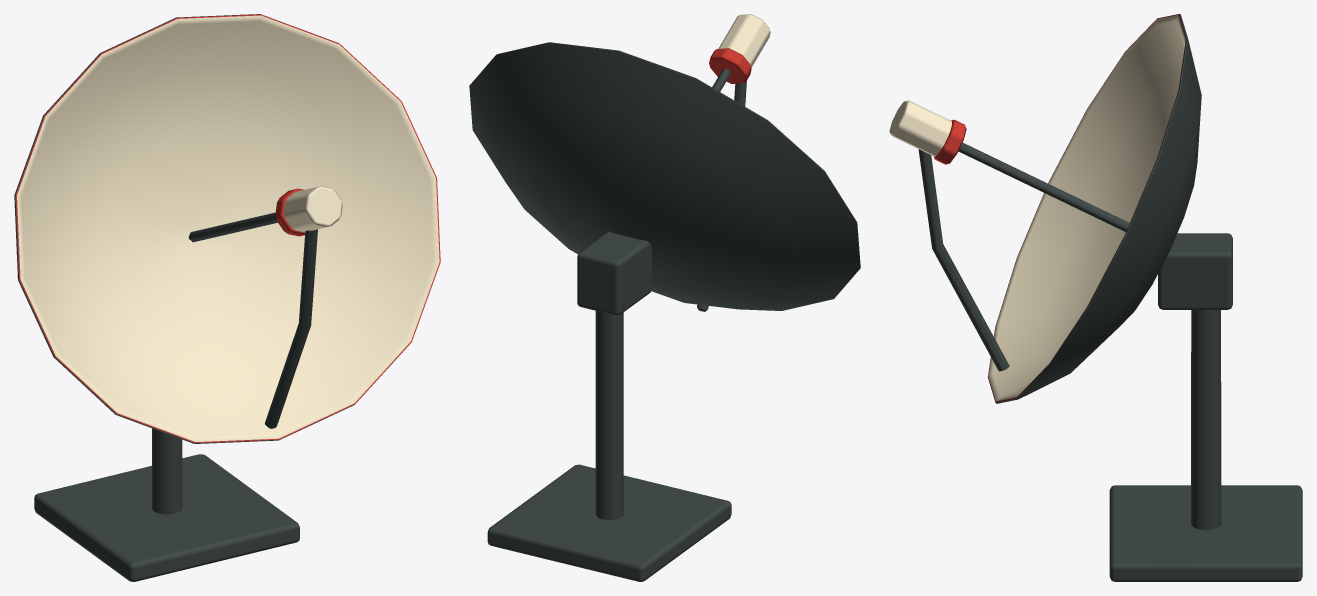
File: prop_satellite_dish.glb
The picture shows the model from 3 angles, left to right: view 1: azimuth 30°, elevation 25°; view 2: azimuth 150°, elevation 25°; view 3: azimuth 270°, elevation 25°; orthographic projection. The views are drawn at different scales.
Visible parts, largest first — view 1: prop_satellite_dish; view 2: prop_satellite_dish; view 3: prop_satellite_dish.
Part boxes in pixels (<box>): prop_satellite_dish: <box>14,14,440,581</box>; prop_satellite_dish: <box>469,14,860,581</box>; prop_satellite_dish: <box>889,14,1302,581</box>.
Bounding box in the file's own units: 0.8801 × 1.04 × 0.7714.
